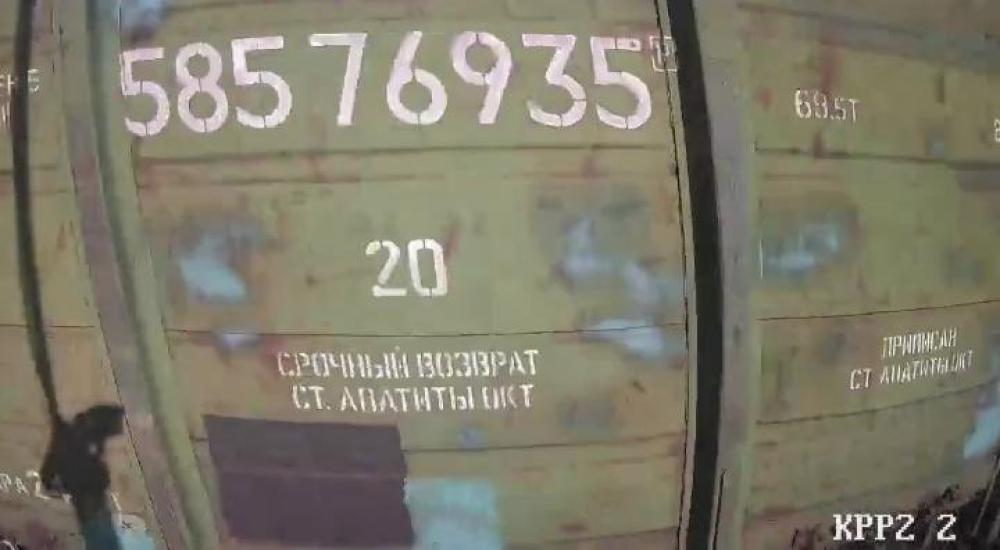Wagon-number: (115, 28, 659, 138)
